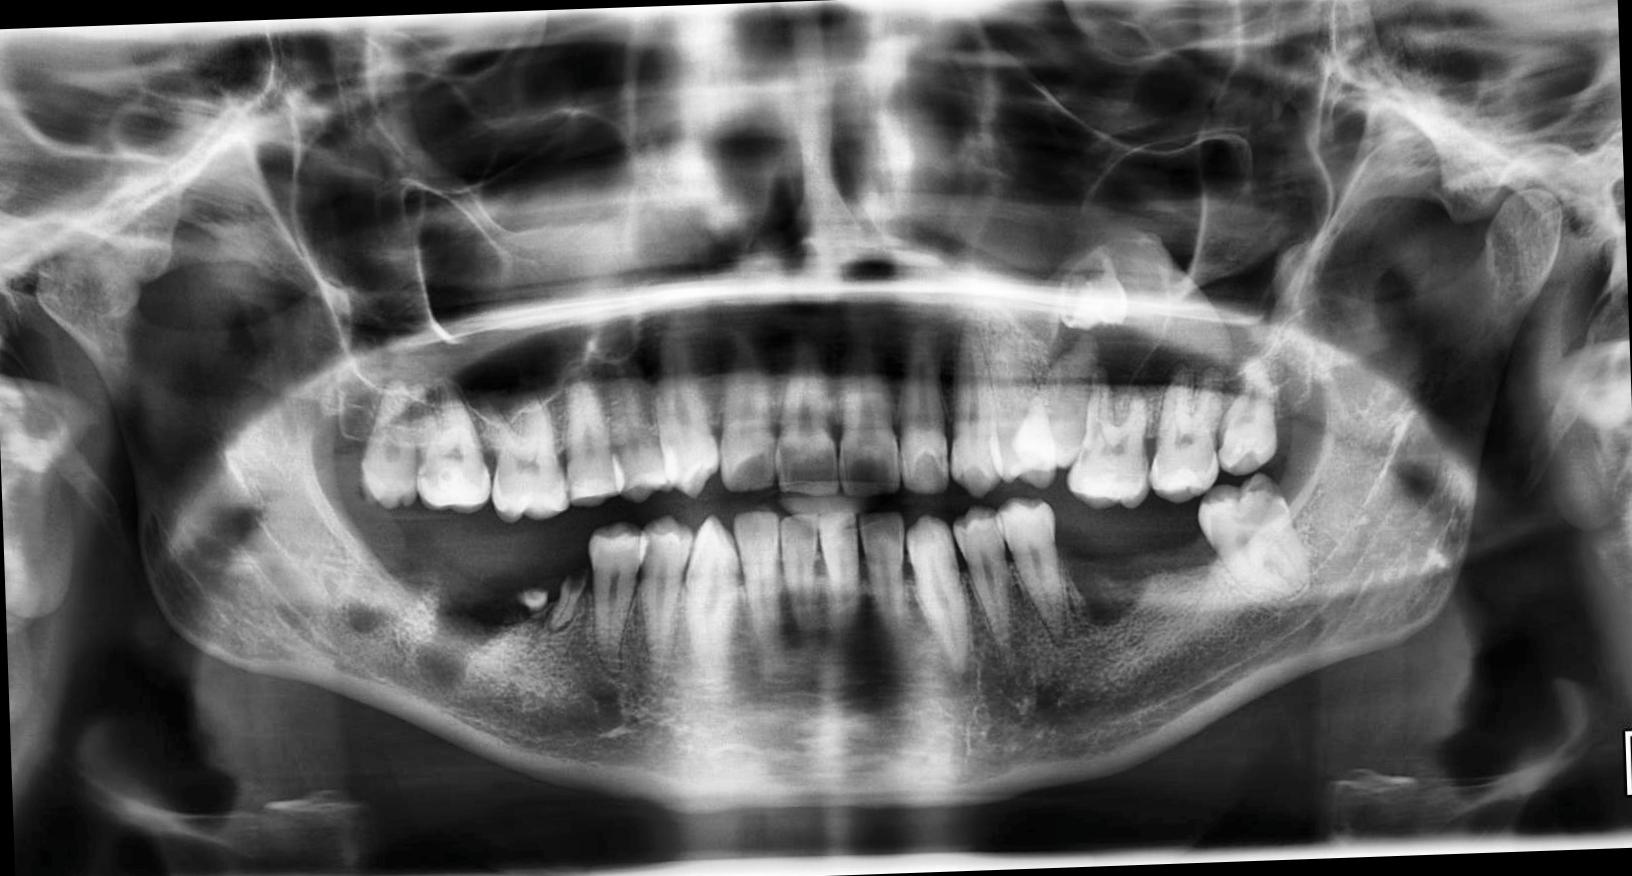dentigeroz: (1046, 234, 1229, 396)
